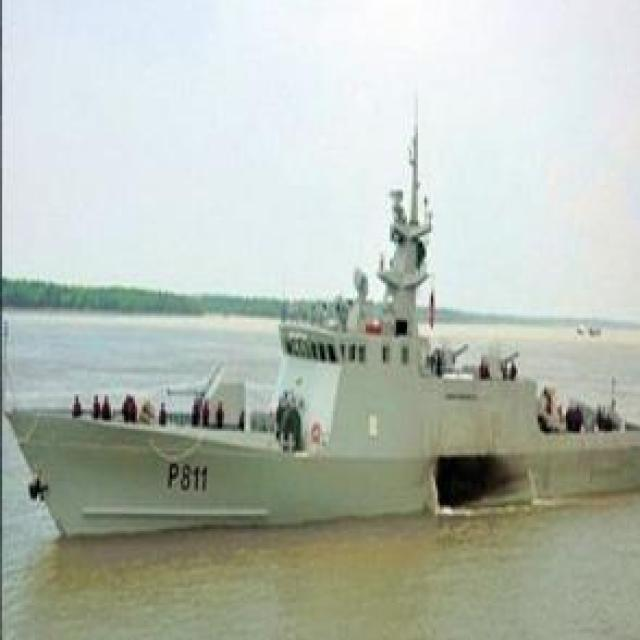navalvessels: (11, 140, 640, 534)
